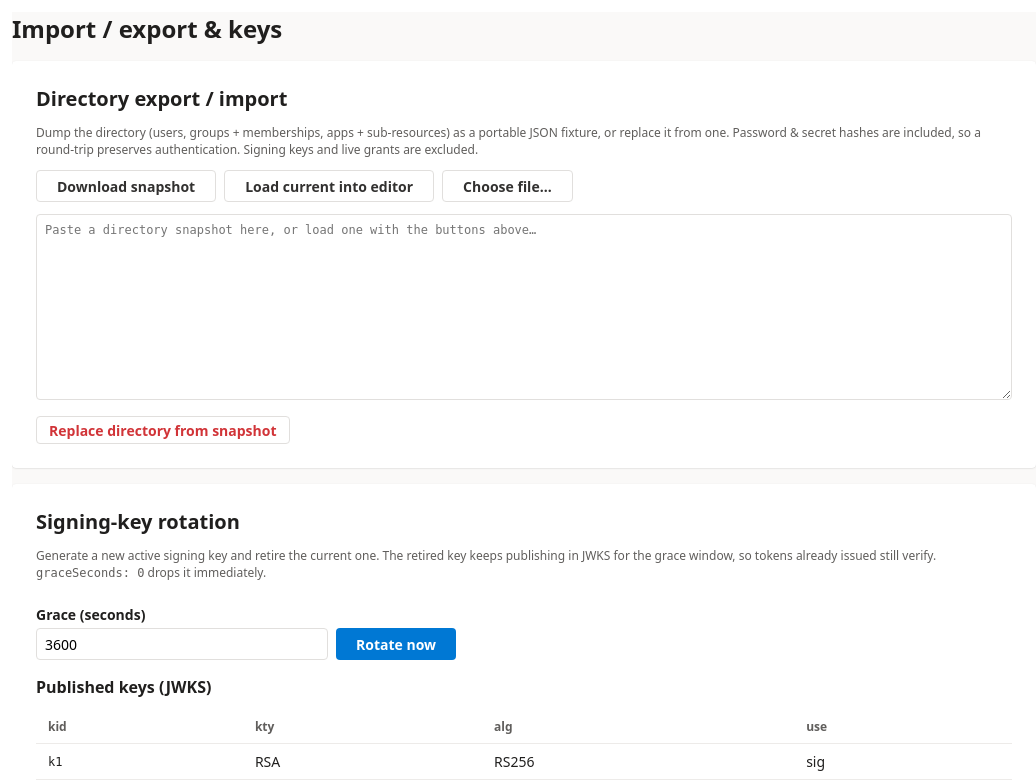
Test: Operations view › rotates the signing key with the grace window
The image size is (1036, 780).
Expected: the text "k1" is shown, [36,744,243,779]
Click the button "Rotate now" at [396, 644], box [336,628,456,660]
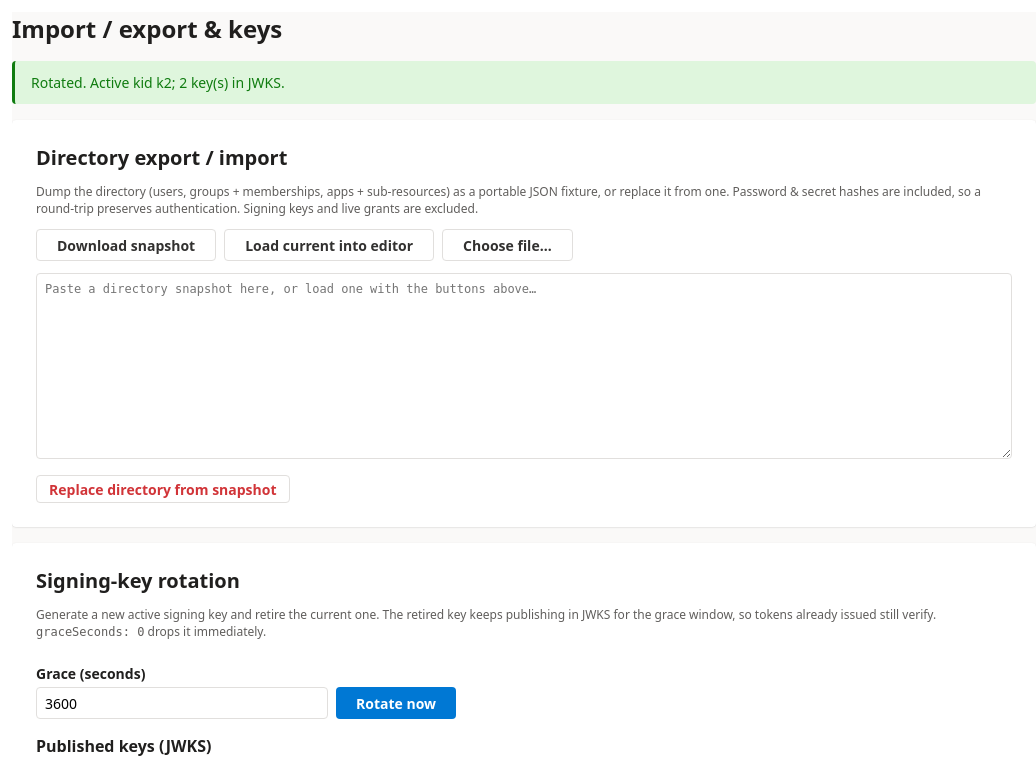
Result: the text "Rotated. Active kid k2; 2 key(s) in JWKS." is shown at [12,61,1035,104]
